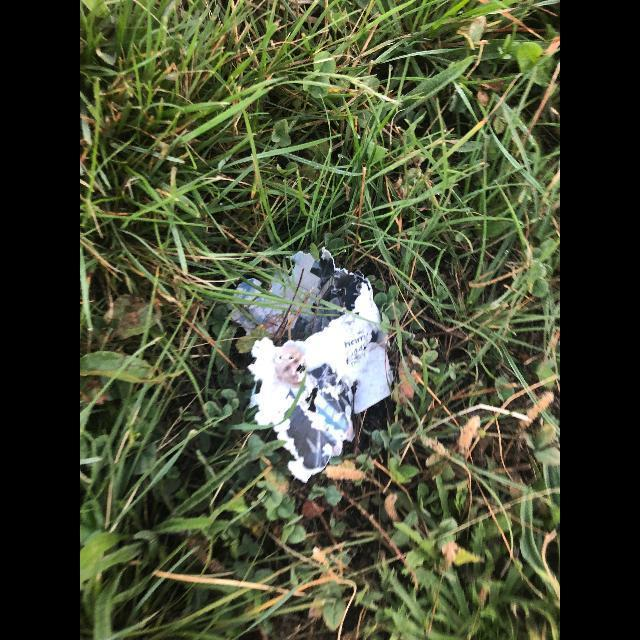Plastic: (227, 250, 393, 482)
